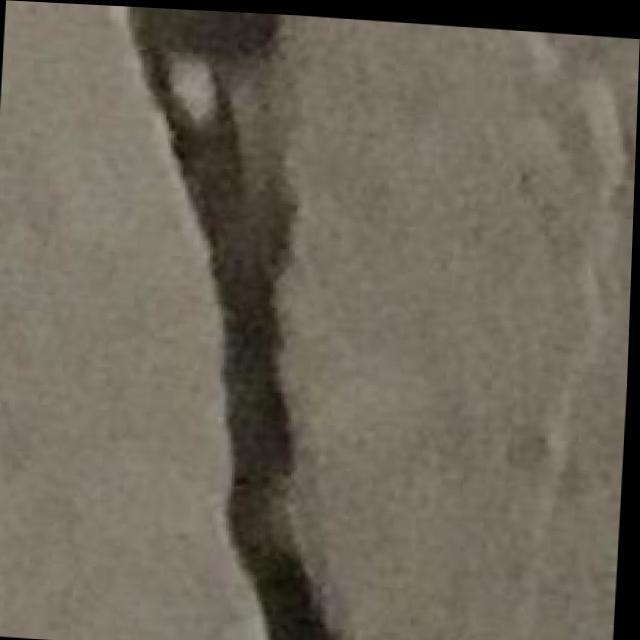Crack: (91, 4, 386, 640)
